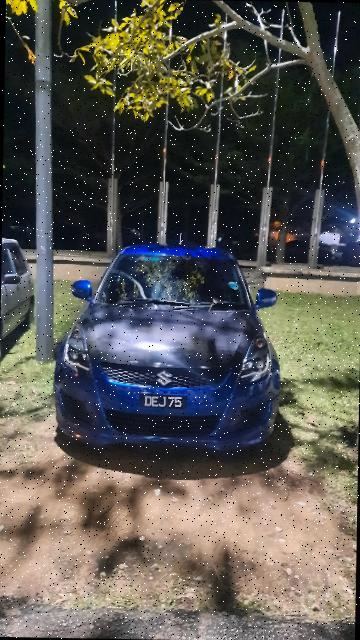License_Plate: (133, 390, 190, 412)
car: (49, 239, 290, 457)
